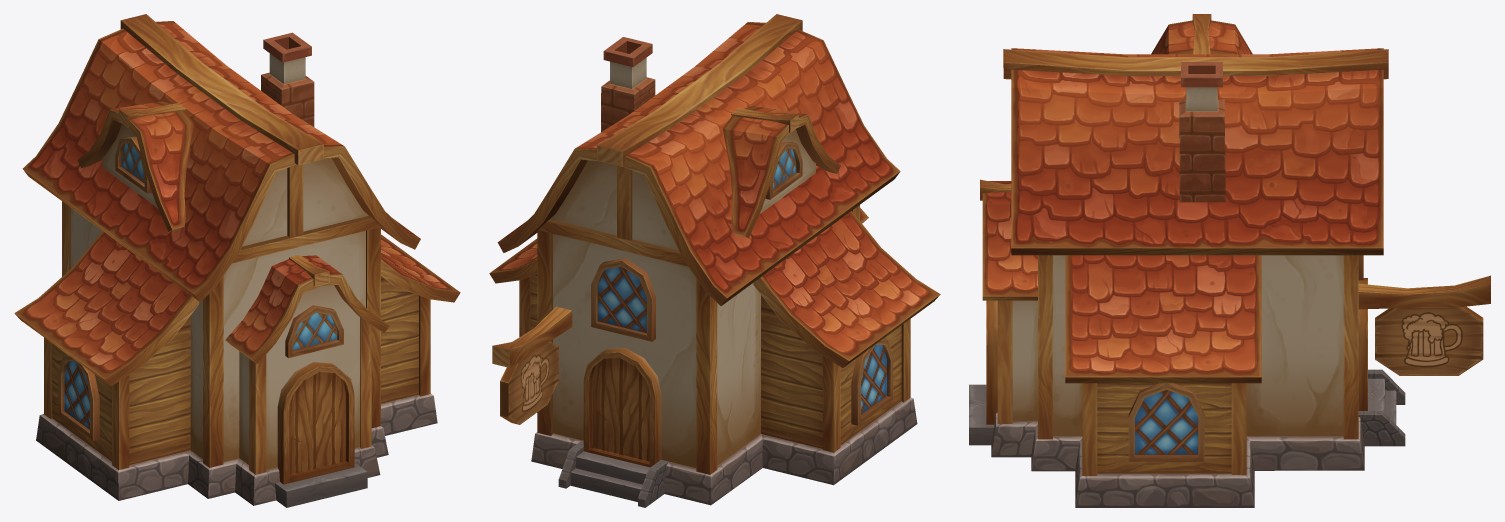
Rendered from Tavern.FBX.
3 renders of one model, left to right at view 1: azimuth 30°, elevation 25°; view 2: azimuth 150°, elevation 25°; view 3: azimuth 270°, elevation 25°, orthographic. The views are drawn at different scales.
Visible parts, largest first — view 1: Tavern; view 2: Tavern; view 3: Tavern.
Boxes of the visible parts, x1,y1,x2,y2 form: Tavern: (14, 14, 460, 507); Tavern: (489, 14, 940, 507); Tavern: (969, 14, 1490, 507).
Size of what is drawn, in the model's own units: 922 by 1079 by 890.
